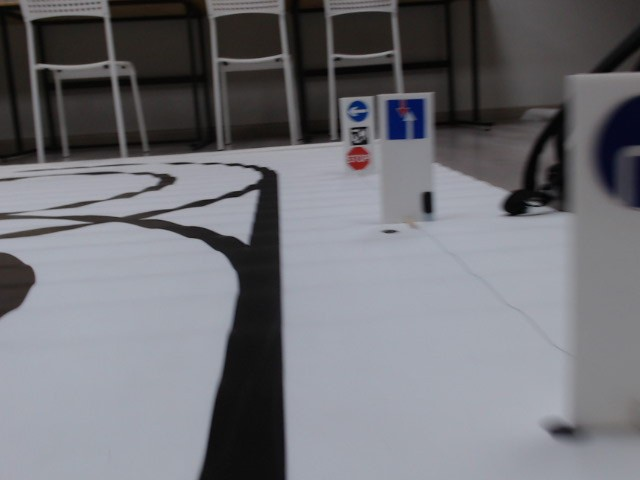Stop: (344, 147, 371, 168)
priority_movement: (384, 96, 425, 143)
